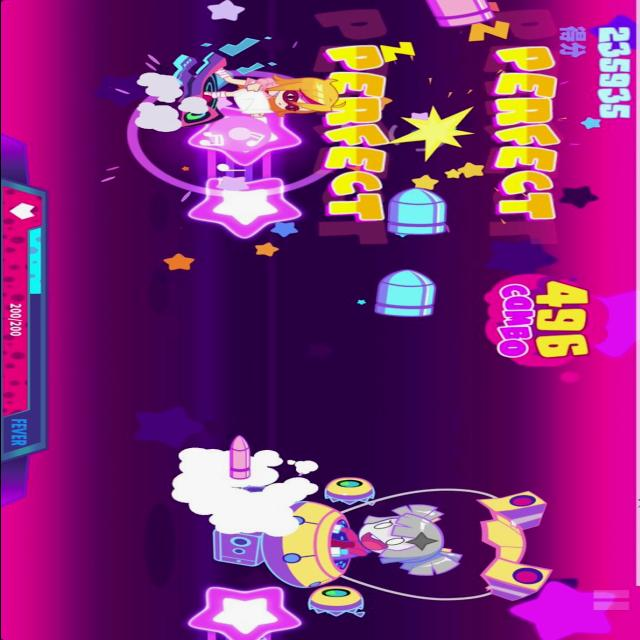hold: (182, 109, 302, 238), (188, 584, 308, 640)
jian: (386, 188, 452, 240), (367, 272, 439, 318), (418, 0, 502, 30), (225, 436, 252, 482)
qiangboss: (210, 472, 560, 616)
